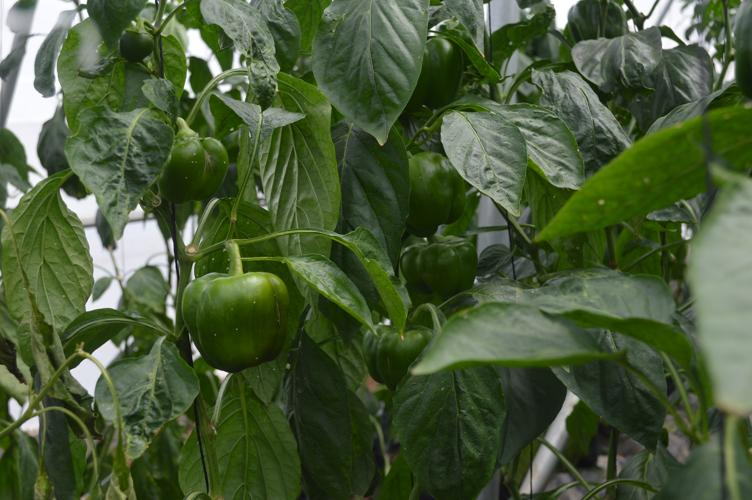BellPepper: (181, 273, 292, 375), (397, 149, 472, 228), (360, 322, 435, 389), (151, 139, 226, 204), (396, 235, 478, 294), (407, 35, 467, 107)
